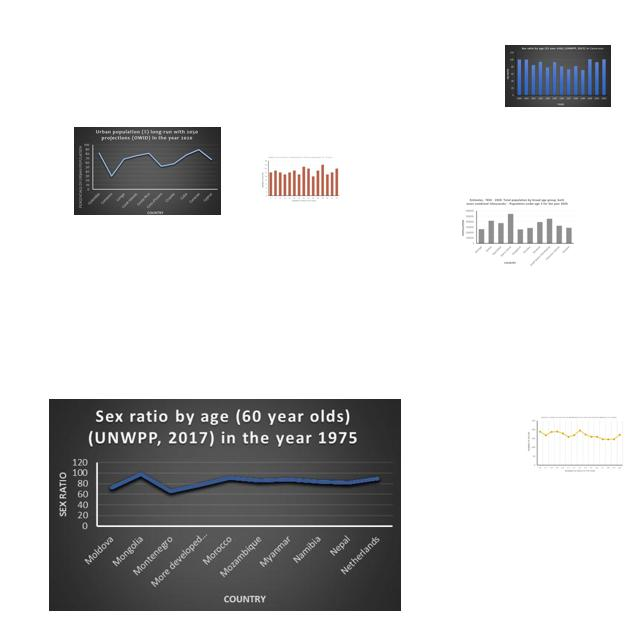Graph: (49, 399, 401, 611), (74, 127, 221, 215), (460, 198, 576, 267), (505, 45, 611, 107), (525, 414, 625, 475), (260, 155, 341, 204)
